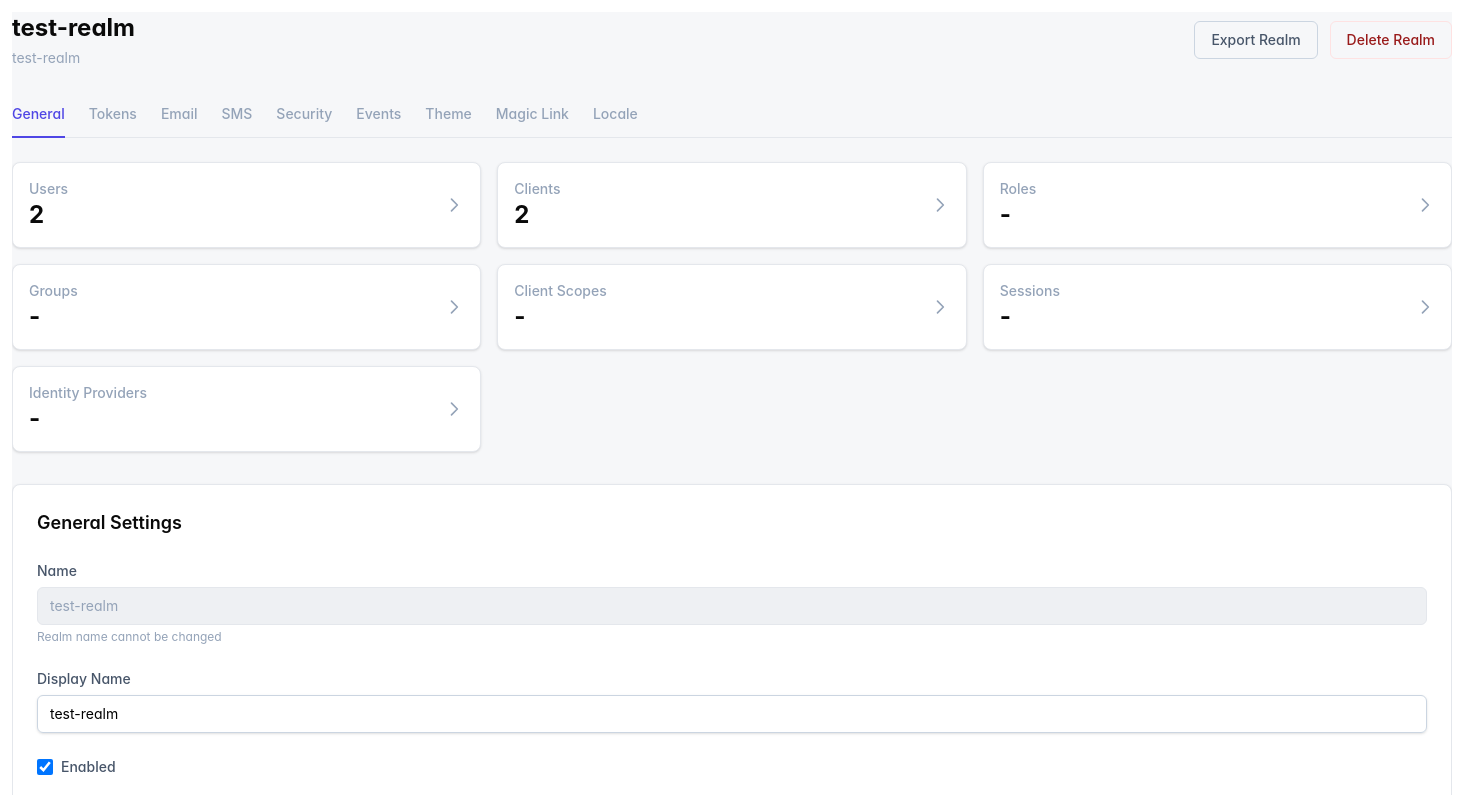
Test: RealmDetailPage › switches to the Magic Link tab
Expected: the heading "General Settings" is shown, x1=37 y1=512 x2=182 y2=533
Click the button "Magic Link".
click(532, 115)  # box x1=496 y1=92 x2=569 y2=138
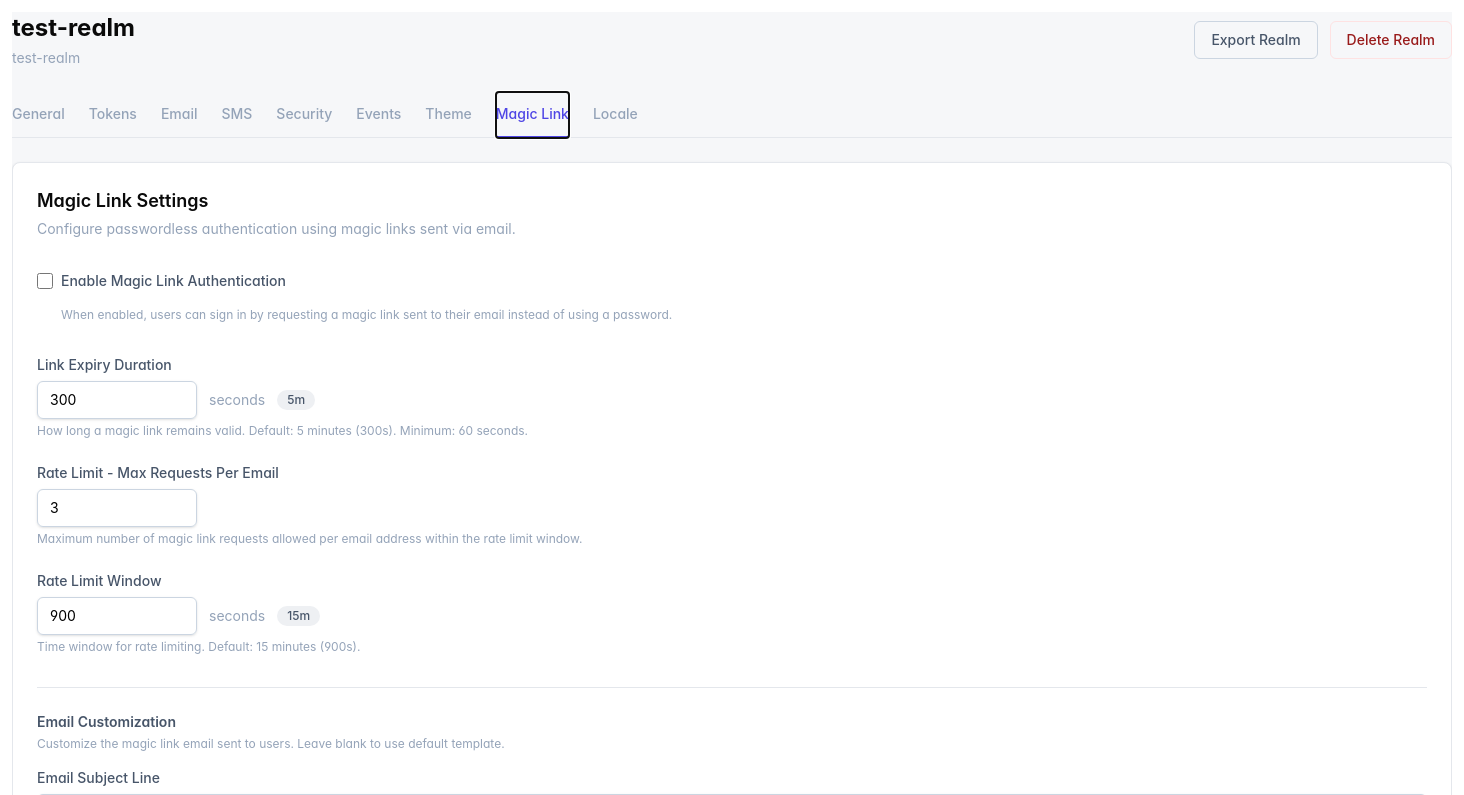
Result: the heading "Magic Link Settings" is shown at x1=37 y1=190 x2=208 y2=211
